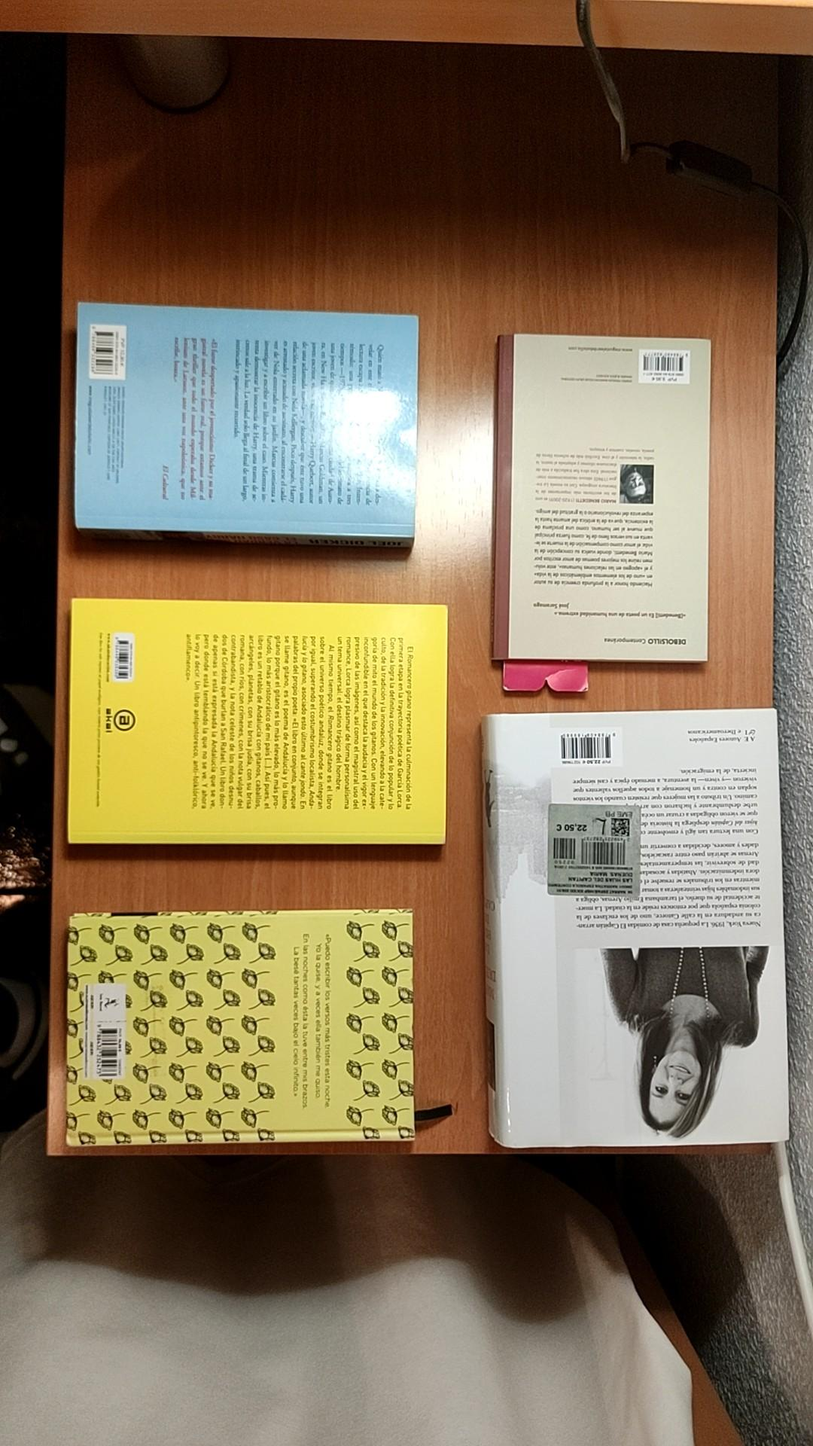book: (477, 702, 786, 1152), (67, 598, 448, 864), (65, 905, 416, 1154), (76, 304, 416, 543), (495, 334, 710, 665)
